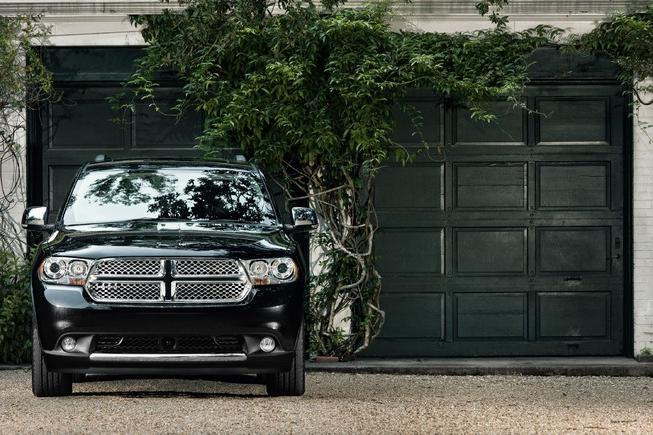Car: (13, 136, 342, 416)
